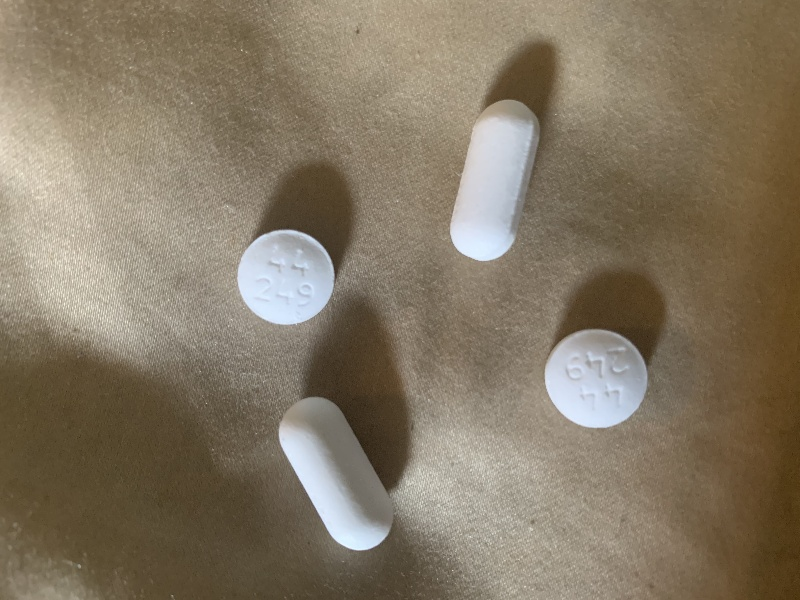Aspirin: (536, 321, 658, 431), (232, 225, 343, 334)
Tylenol: (271, 392, 406, 554), (448, 97, 546, 265)
